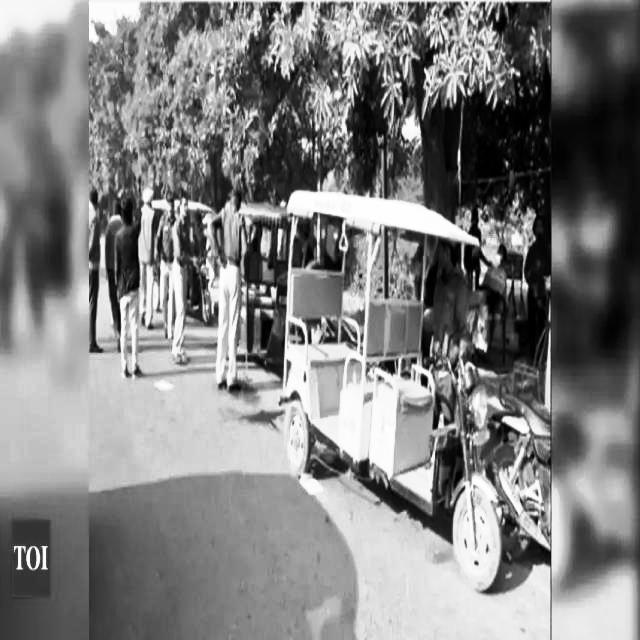Toto: (283, 187, 502, 593)
